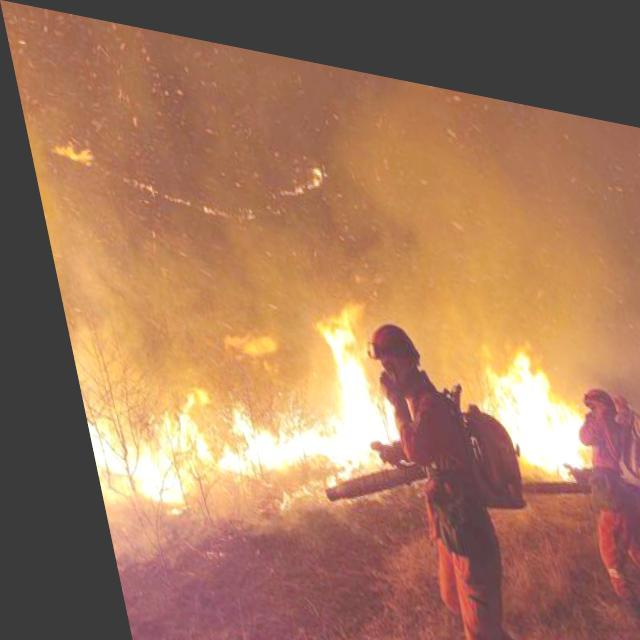Fire: (45, 252, 407, 542), (33, 105, 329, 227), (460, 323, 588, 468), (630, 389, 639, 450)
